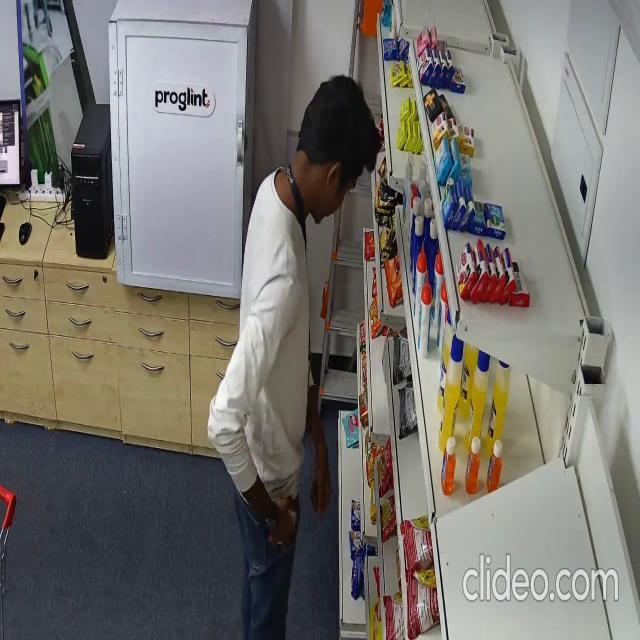Shoplifting: (209, 73, 384, 640)
